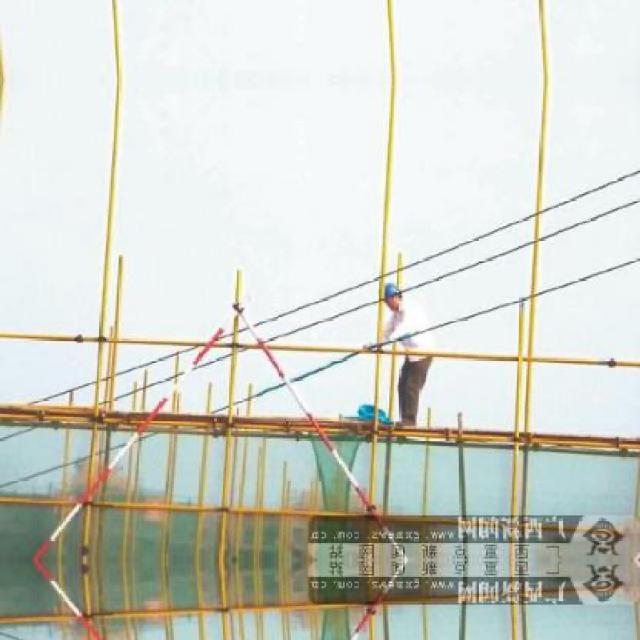con casco: (371, 272, 434, 320)
